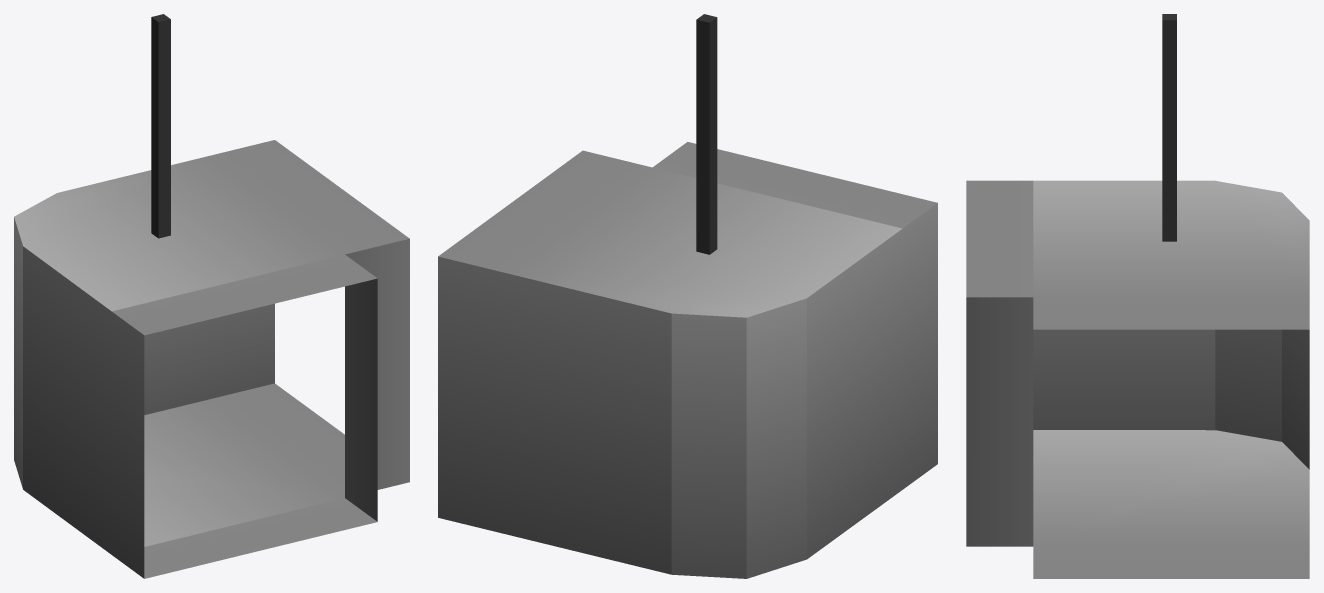
File: B01_Conduit_Corner.fbx
The picture shows the model from 3 angles, left to right: view 1: azimuth 30°, elevation 25°; view 2: azimuth 150°, elevation 25°; view 3: azimuth 270°, elevation 25°; orthographic projection. The views are drawn at different scales.
Visible parts, largest first — view 1: B01_Conduit_Corner; view 2: B01_Conduit_Corner; view 3: B01_Conduit_Corner.
Boxes of the visible parts, bbox=[...] form: B01_Conduit_Corner: bbox=[14, 14, 409, 578]; B01_Conduit_Corner: bbox=[438, 14, 937, 578]; B01_Conduit_Corner: bbox=[966, 14, 1309, 578].
Size of the model in its own units: 49.13 by 72.37 by 47.86.
